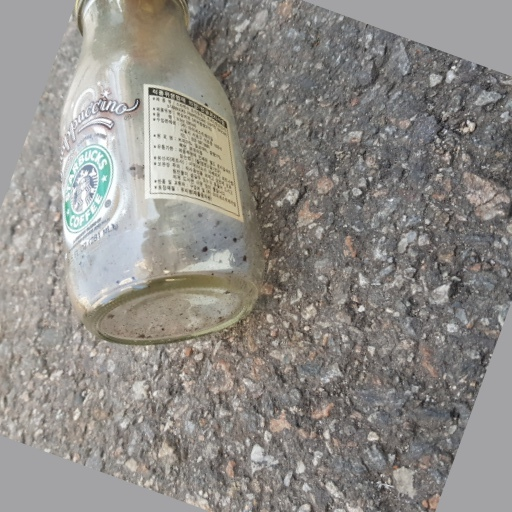Glass_4: (55, 1, 259, 350)
